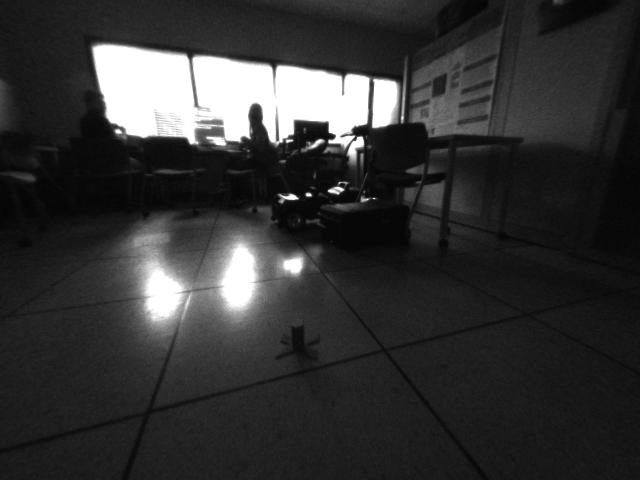x: (276, 323, 325, 363)
